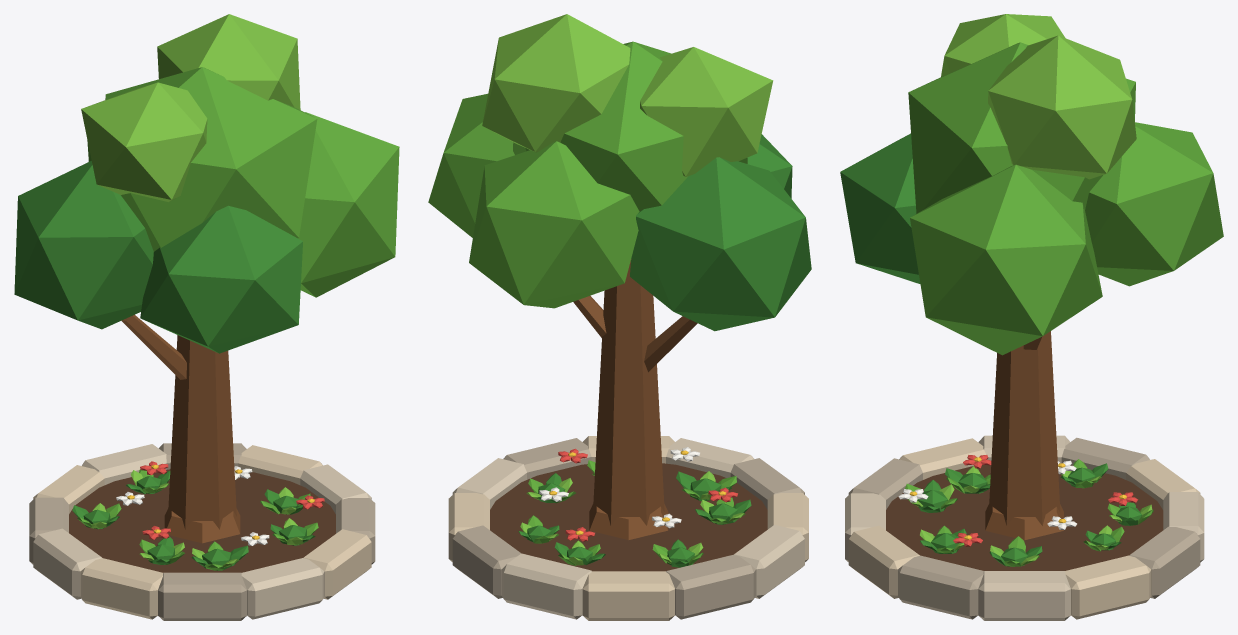
Rendered from broad_tree_bed.glb.
3 views of the same model, side by side, from view 1: azimuth 30°, elevation 25°; view 2: azimuth 150°, elevation 25°; view 3: azimuth 270°, elevation 25° (orthographic). The views are drawn at different scales.
Visible parts, largest first — view 1: part_crown, broad_tree_bed; view 2: part_crown, broad_tree_bed; view 3: part_crown, broad_tree_bed.
Part boxes in pixels (box(x1,y1,x2,y2)): part_crown: box(14, 14, 399, 353); broad_tree_bed: box(29, 314, 375, 620); part_crown: box(428, 14, 811, 331); broad_tree_bed: box(448, 259, 808, 620); part_crown: box(840, 14, 1223, 355); broad_tree_bed: box(845, 331, 1204, 620).
Bounding box in the file's own units: 2.46 × 3.44 × 2.24.
